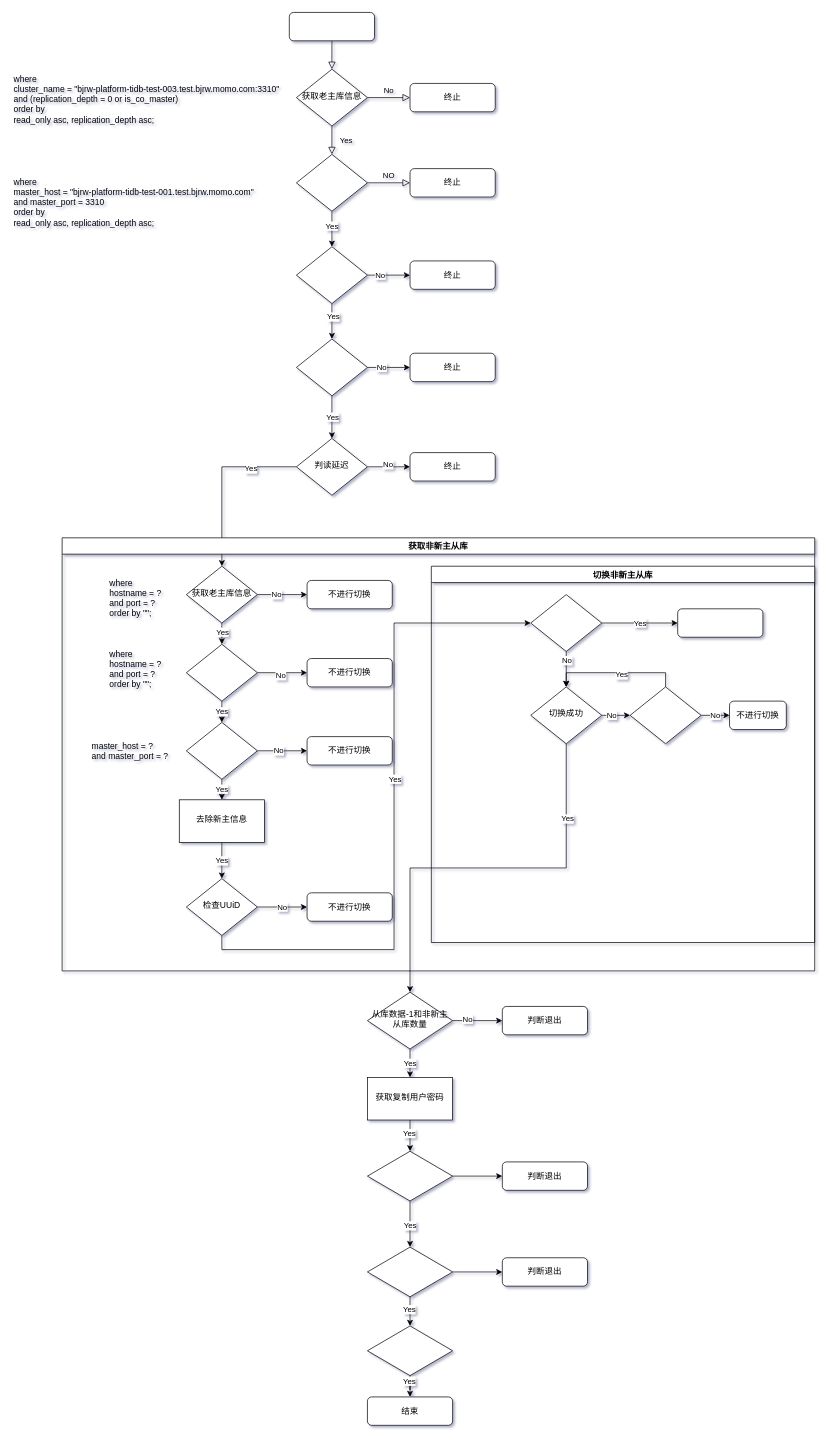
This 831x1442 diagram has some shape labels left out. Each missing label, with the centre of its shape:
"binlogserver" goes at (566,622).
"other切换逻辑" goes at (720,622).
"优雅切换" goes at (332,26).
"切换成功了一个" goes at (665,715).
"切老主" goes at (410,1350).
"判断新主binlog位置是否靠前" goes at (410,1176).
"实时获取老主库信息" goes at (331,367).
"注册恢复" goes at (410,1271).
"获取从库列表" goes at (331,182).
"获取新主信息" goes at (331,275).
"获取新主库信息" goes at (221,672).
"读从库列表信息" goes at (221,750).
